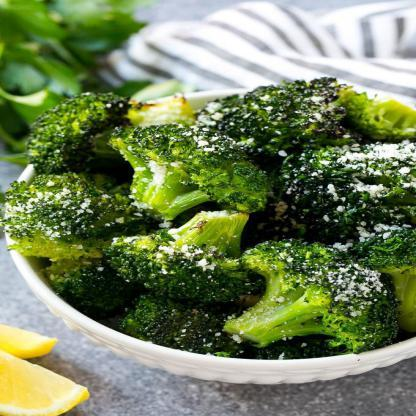broccoli: (2, 76, 416, 358)
